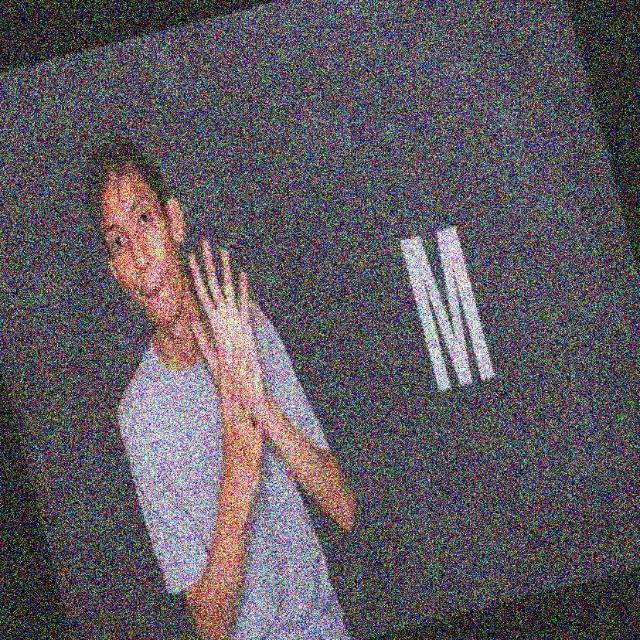M: (185, 234, 273, 436)
